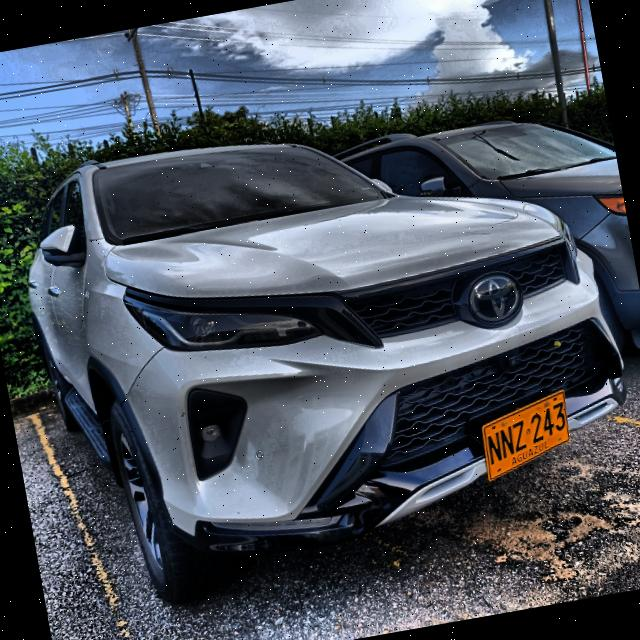plate: (483, 390, 569, 480)
